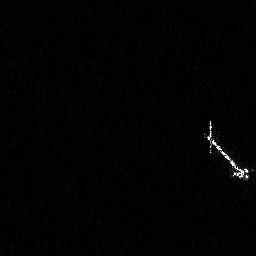ship: (204, 118, 251, 183)
